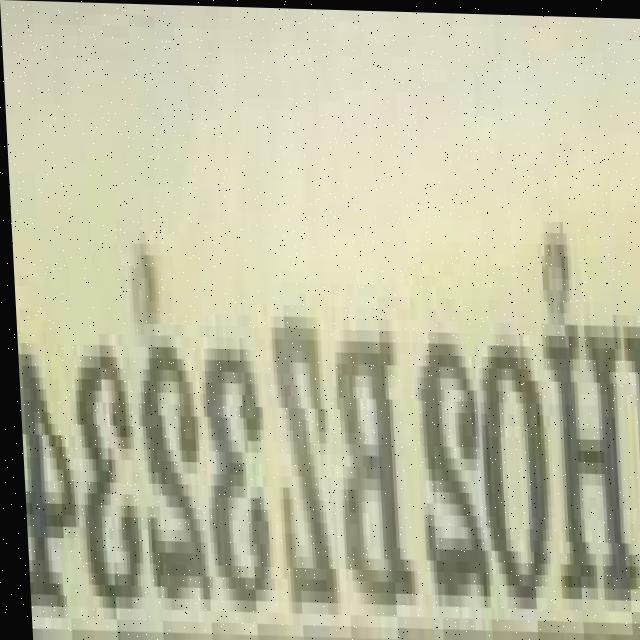plate: (8, 205, 640, 640)
